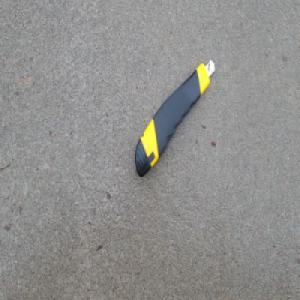Cutter: (133, 55, 216, 178)
